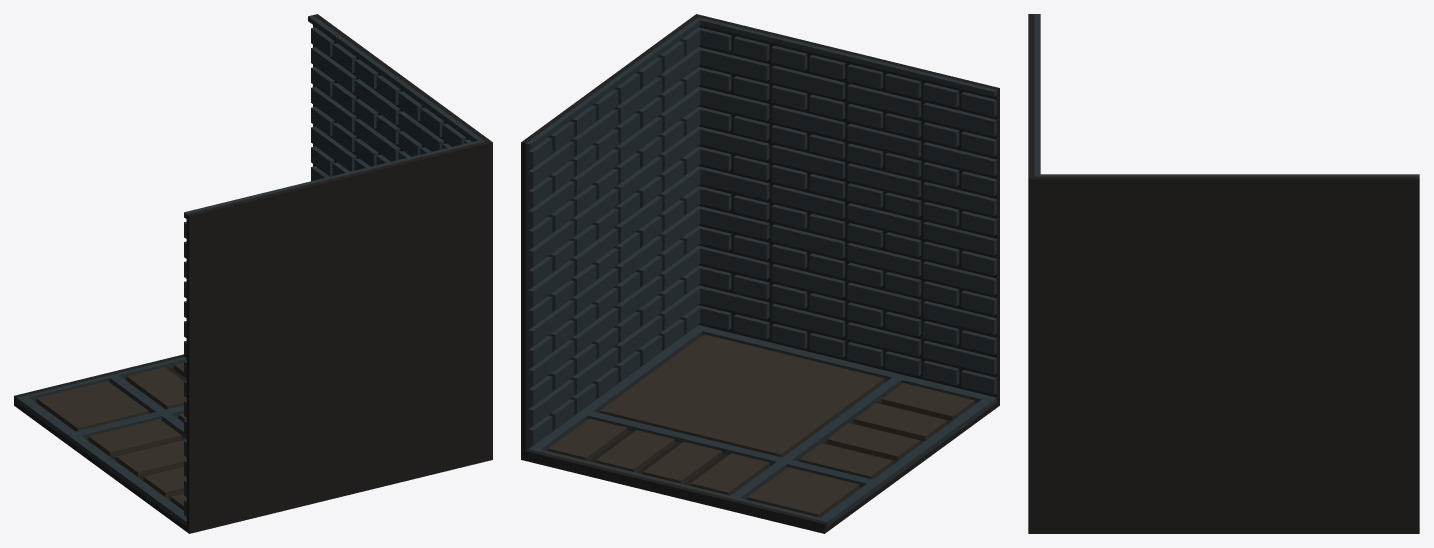
Rendered from corridor_bend_1.obj.
The picture shows the model from 3 angles, left to right: view 1: azimuth 30°, elevation 25°; view 2: azimuth 150°, elevation 25°; view 3: azimuth 270°, elevation 25°; orthographic projection. The views are drawn at different scales.
Bounding box in the file's own units: 6.4 × 6.4 × 6.4.
Materials: 1 (1 with a texture image).
